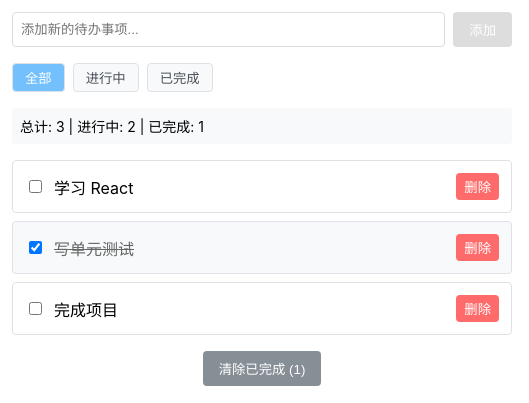
TodoList组件 › 待办事项操作 › 应该能够删除待办事项
Click the button with test id "delete-todo-1" at point(478, 186), box 456,173 -> 499,200
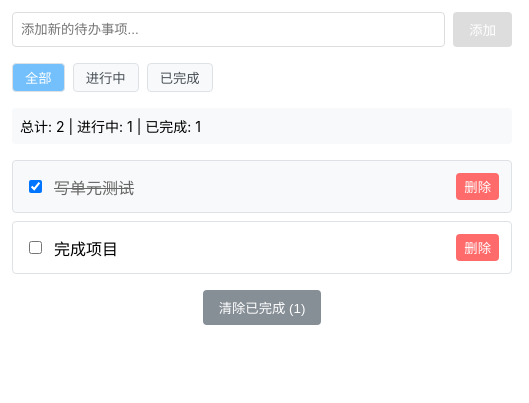
Expected: the text "学习 React" is gone
